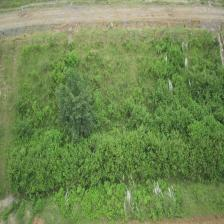vegetation: (14, 64, 224, 195), (51, 73, 96, 140)
